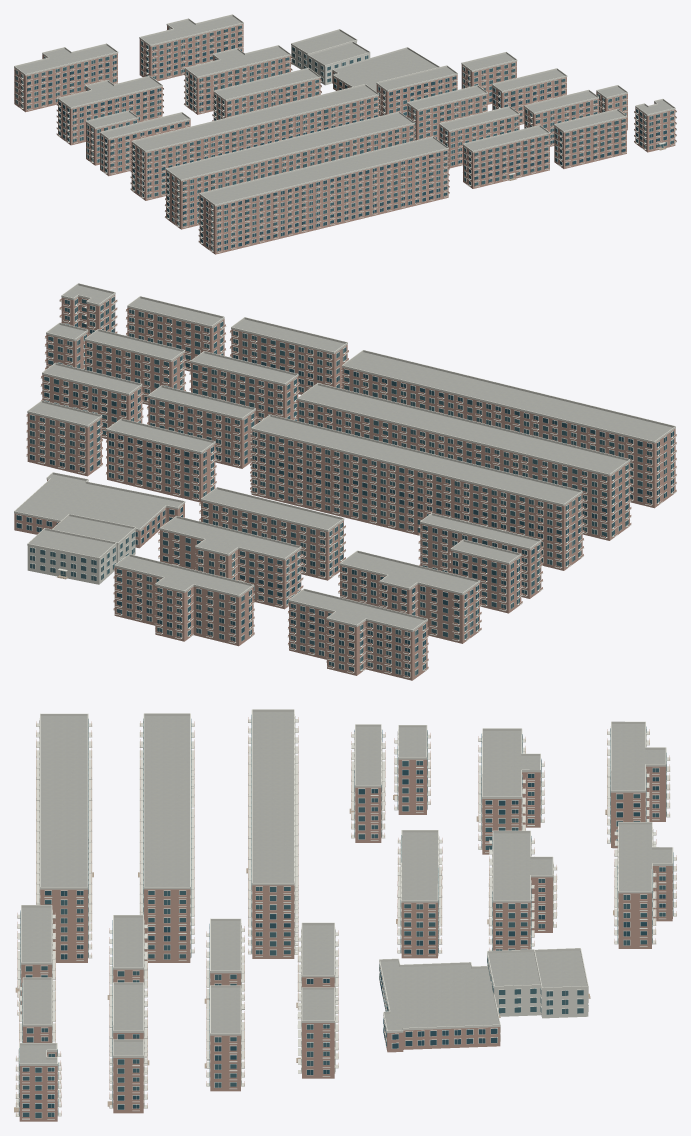
The model's file is chunk-p0-n3.glb.
3 views of the same model, one above another, from view 1: azimuth 30°, elevation 25°; view 2: azimuth 150°, elevation 25°; view 3: azimuth 270°, elevation 25° (orthographic). The views are drawn at different scales.
Parts seen in each view (by area): view 1: chunk-p0-n3; view 2: chunk-p0-n3; view 3: chunk-p0-n3.
Part boxes in pixels (left/top/right/bottom): chunk-p0-n3: left=14, top=14, right=676, bottom=254; chunk-p0-n3: left=14, top=283, right=676, bottom=680; chunk-p0-n3: left=14, top=709, right=676, bottom=1121.
Size of the model in its own units: 268 by 30.01 by 219.
6 materials, 2 textured.
